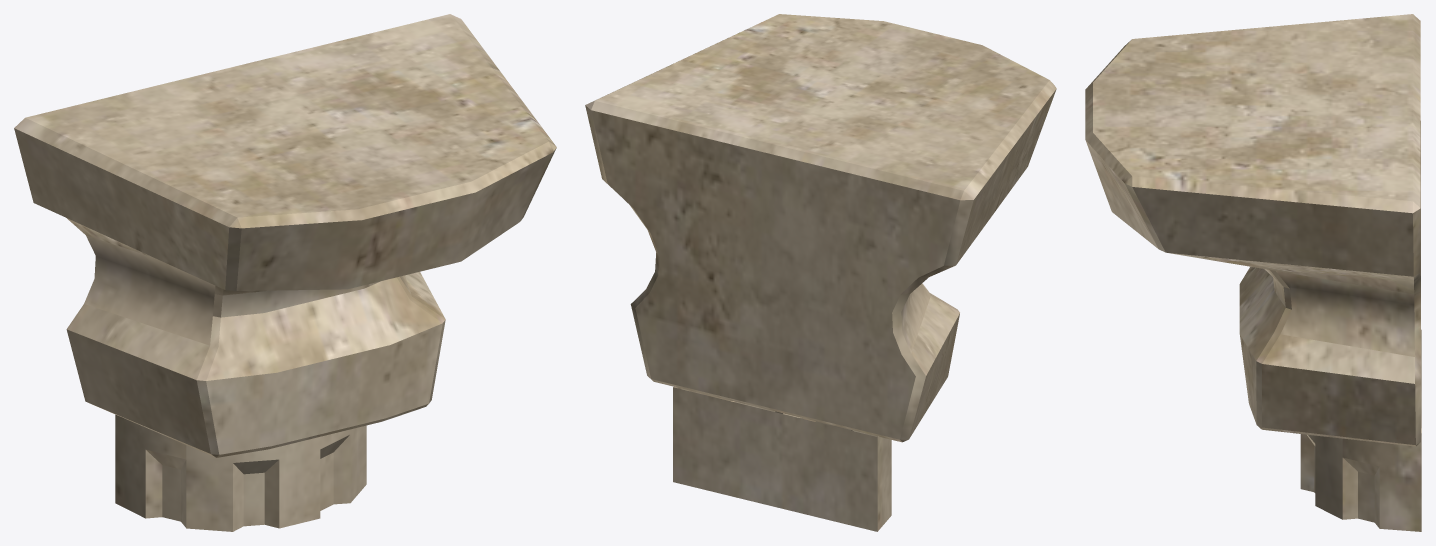
File: column_inner_top.FBX
The picture shows the model from 3 angles, left to right: view 1: azimuth 30°, elevation 25°; view 2: azimuth 150°, elevation 25°; view 3: azimuth 270°, elevation 25°; orthographic projection. The views are drawn at different scales.
Visible parts, largest first — view 1: Object010; view 2: Object010; view 3: Object010.
Part boxes in pixels (box(x1,y1,x2,y2)): Object010: box(14, 14, 556, 531); Object010: box(585, 14, 1056, 531); Object010: box(1085, 14, 1421, 531).
Bounding box in the file's own units: 43.94 × 38.7 × 31.67.
